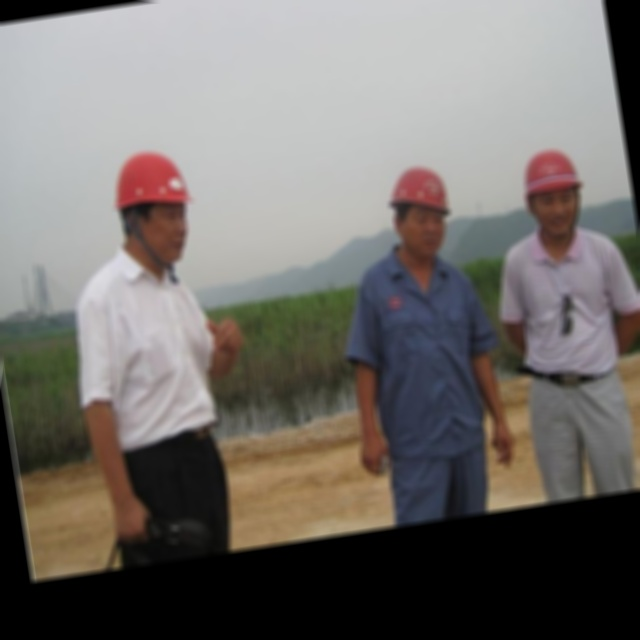Con_Casco: (383, 163, 456, 263), (515, 144, 588, 240)
Sin_Chaleco: (68, 256, 219, 448)
